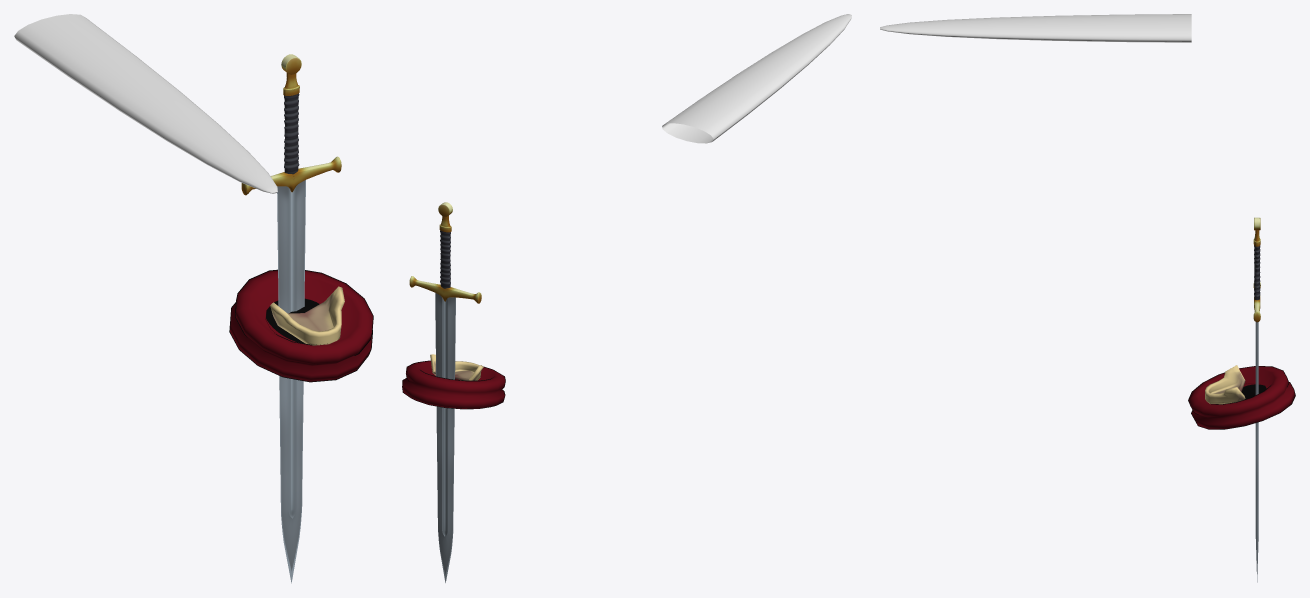
The model's file is SwordSingular.fbx.
3 renders of one model, left to right at view 1: azimuth 30°, elevation 25°; view 2: azimuth 150°, elevation 25°; view 3: azimuth 270°, elevation 25°, orthographic. The views are drawn at different scales.
Visible parts, largest first — view 1: Sphere.001, Cylinder, Scarf.001, Backupjaw, Scarf.002; view 2: Sphere.001, Cylinder, Scarf.001, Backupjaw; view 3: Sphere.001, Scarf.001, Cylinder, Backupjaw.
Boxes of the visible parts, box(x1,y1,x2,y2) form: Sphere.001: box(14, 14, 277, 193); Cylinder: box(241, 54, 341, 583); Scarf.001: box(229, 269, 373, 382); Backupjaw: box(270, 286, 344, 345); Scarf.002: box(266, 298, 319, 343); Sphere.001: box(662, 14, 851, 143); Cylinder: box(409, 202, 481, 582); Scarf.001: box(402, 360, 505, 409); Backupjaw: box(430, 354, 483, 380); Sphere.001: box(880, 14, 1191, 42); Scarf.001: box(1188, 366, 1295, 429); Cylinder: box(1253, 217, 1260, 582); Backupjaw: box(1205, 365, 1245, 404).
Size of the model in its own units: 293 by 488 by 395.
